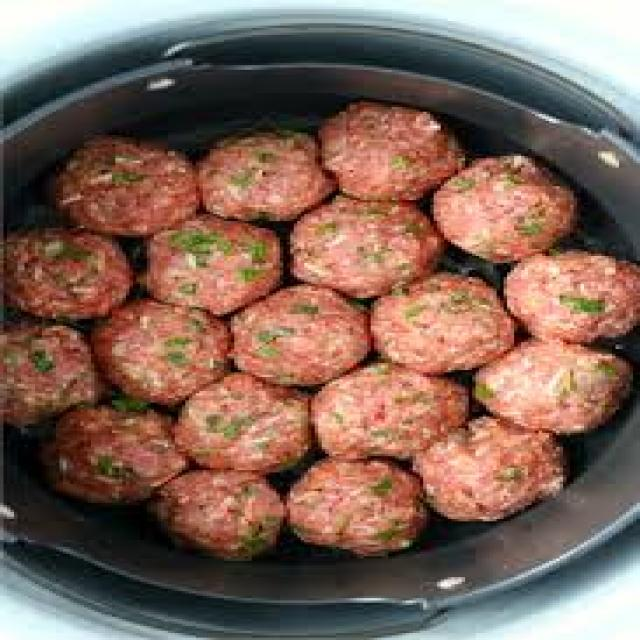meatball: (427, 148, 592, 260), (274, 190, 441, 298), (353, 266, 522, 372), (403, 420, 572, 524), (306, 362, 468, 467), (182, 120, 342, 226), (123, 212, 286, 316), (309, 96, 466, 199), (468, 340, 640, 433), (84, 296, 232, 404), (280, 456, 436, 558), (161, 379, 324, 475), (0, 215, 146, 322), (228, 284, 374, 391), (41, 132, 202, 228), (495, 244, 640, 344), (152, 466, 304, 559), (44, 410, 186, 506), (0, 316, 116, 430)
